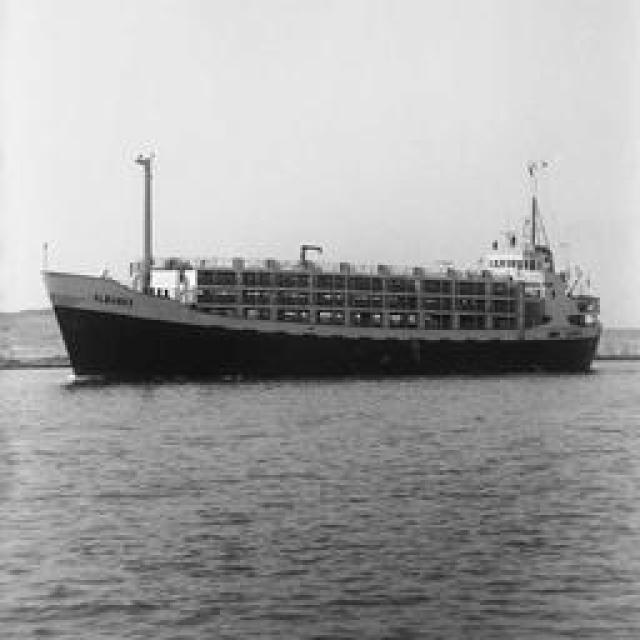Ship: (31, 156, 606, 376)
